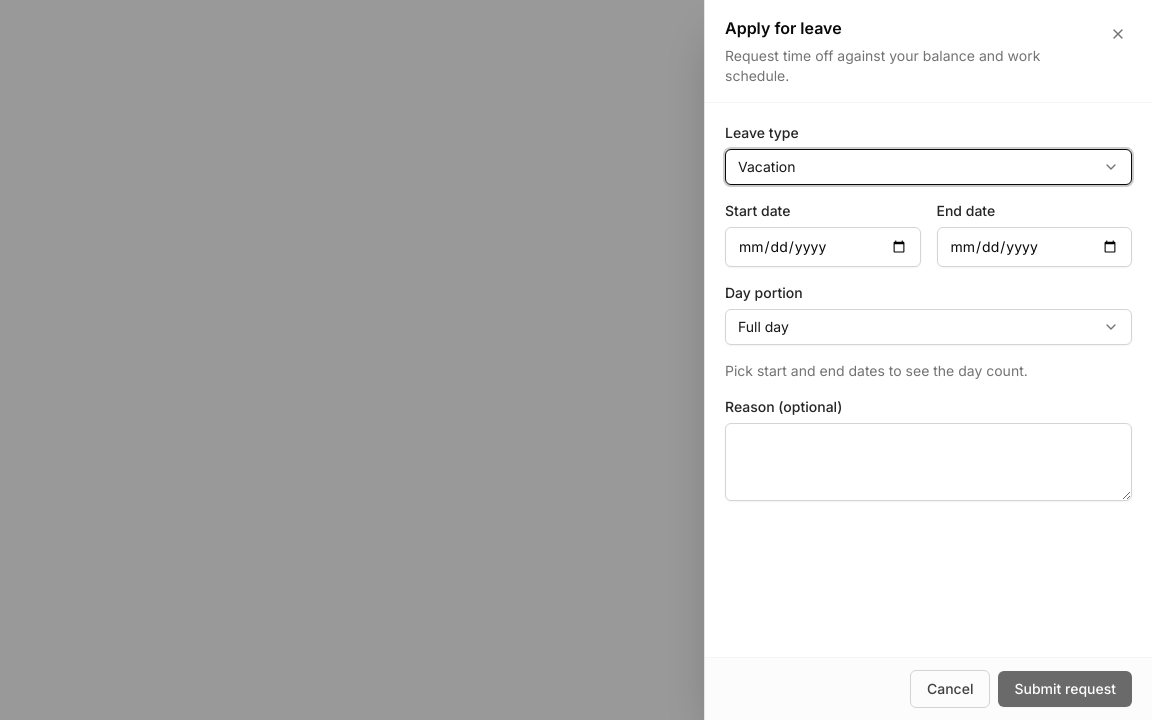
ApplyLeaveDrawer — day portion › hides the day portion control for a whole-day-only leave type (birthday)
Click the button with aria-label "leave type" at (767, 166), box [725,149,1132,185]
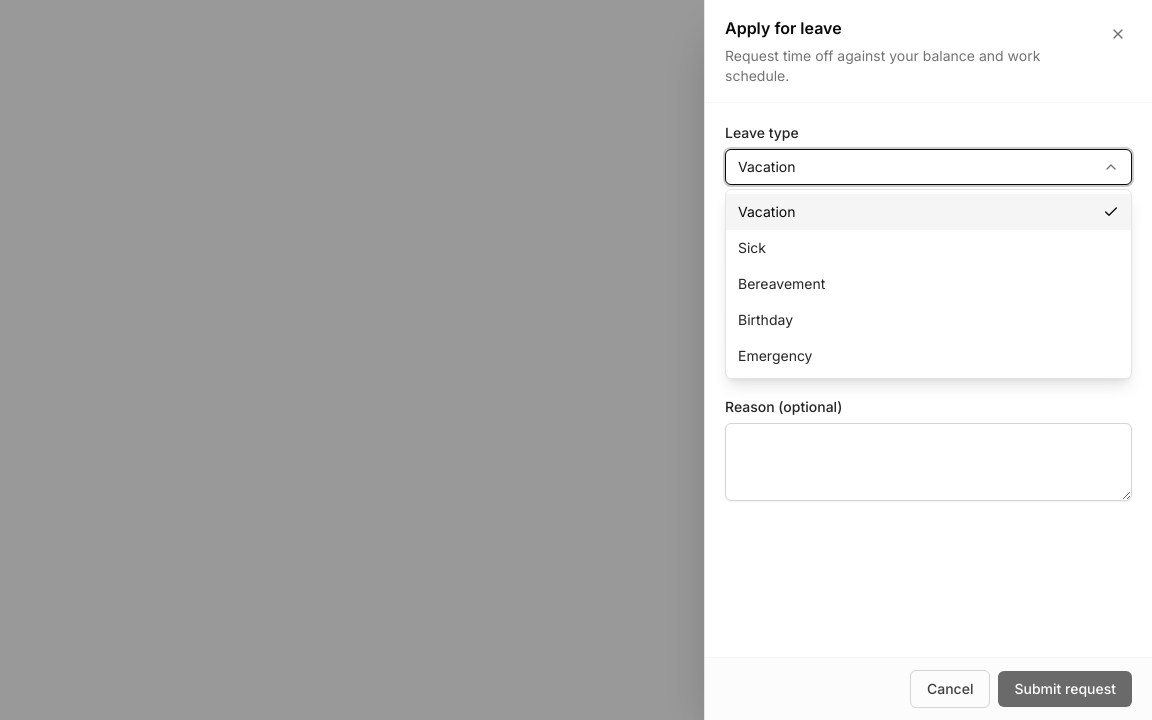
Click the option "Birthday" at (766, 320), box [738,311,793,328]
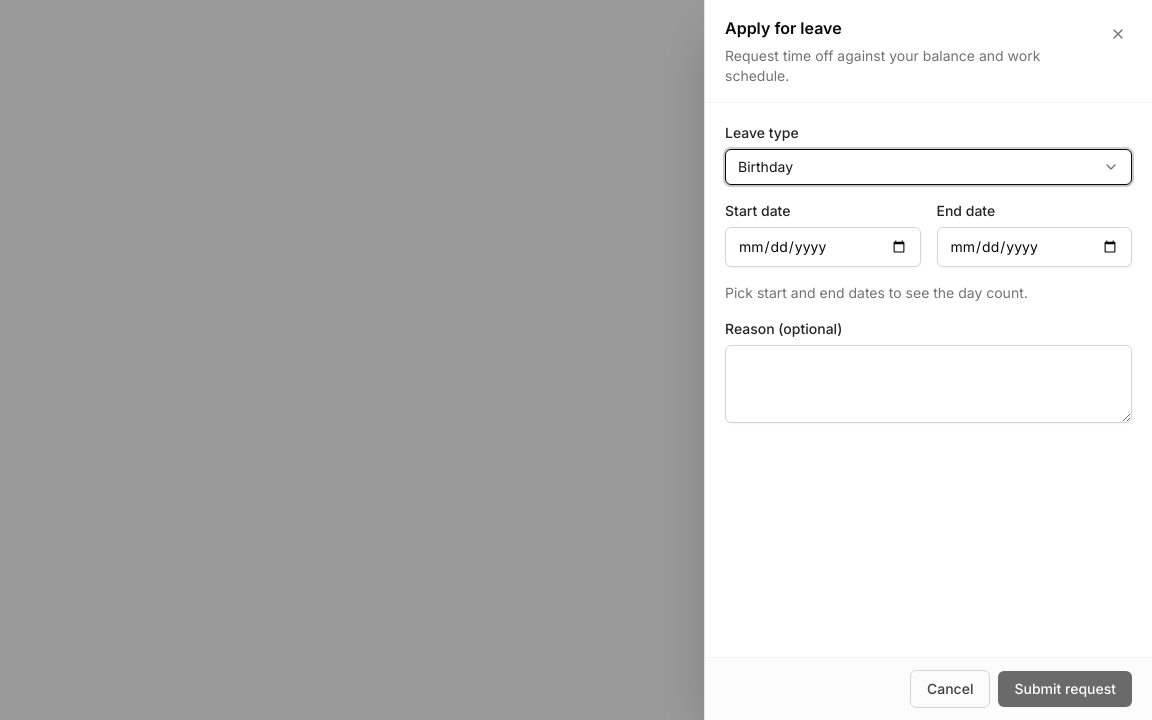
Expected: the text "Day portion" is gone
